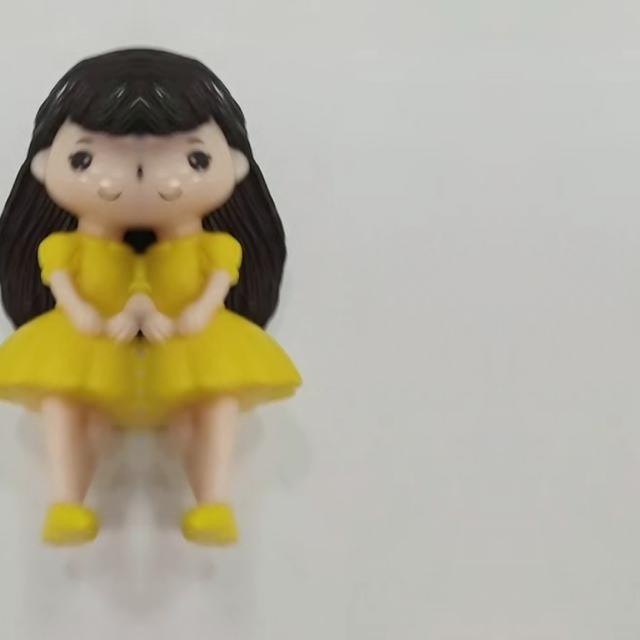woman dress: (140, 238, 300, 542), (0, 237, 140, 542)
